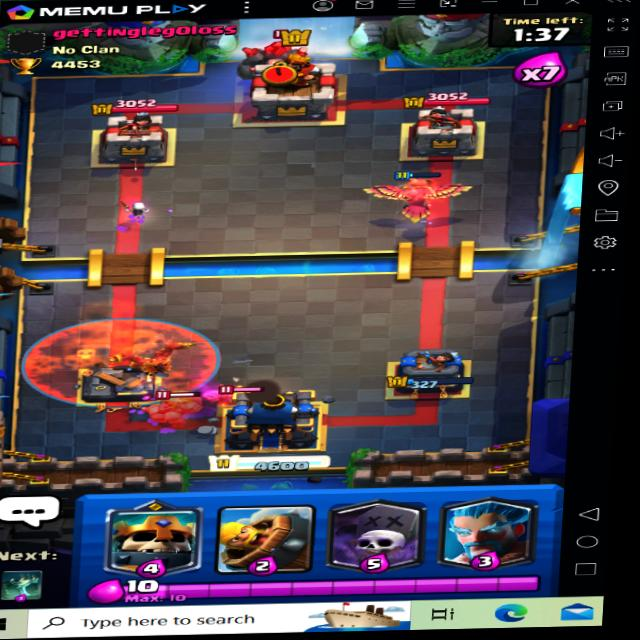golem: (234, 27, 323, 81), (147, 388, 205, 427), (207, 380, 270, 411)
